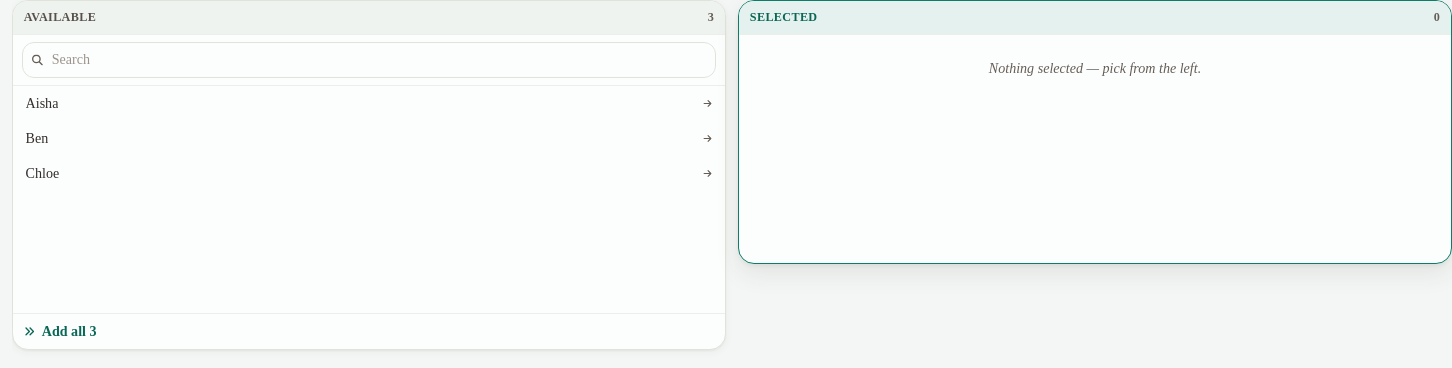
Test: TransferList — filtering › filters the available pane and scopes add-all to the matches
Type "ch" into the field with test id "transfer-search-g1" at {"x": 369, "y": 60}, box [22,42,716,78]
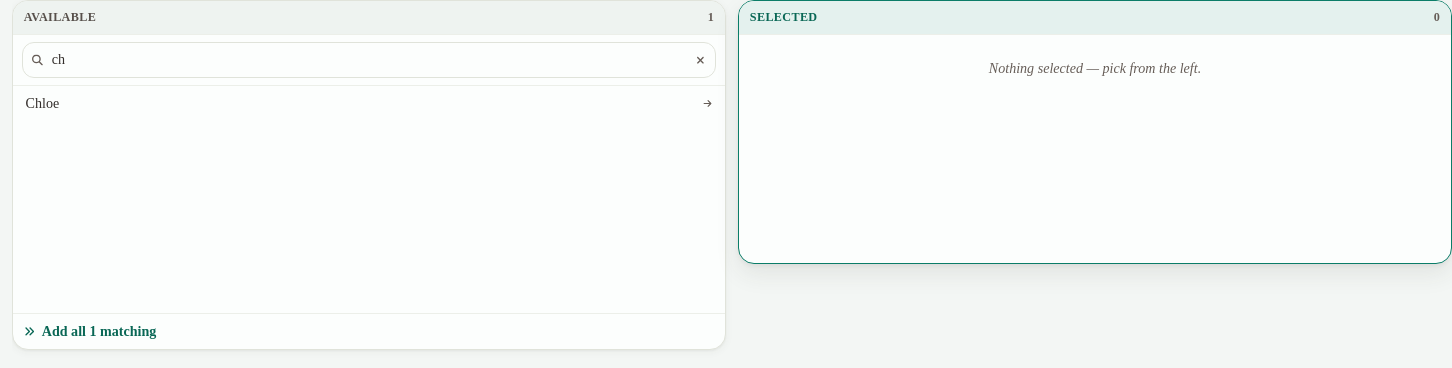
Expected: the text "Chloe" is shown, [26,93,59,114]
Expected: the button "Aisha" is gone
Expected: the button with test id "transfer-add-all-g1" reads "Add all 1 matching", [13,313,725,350]
